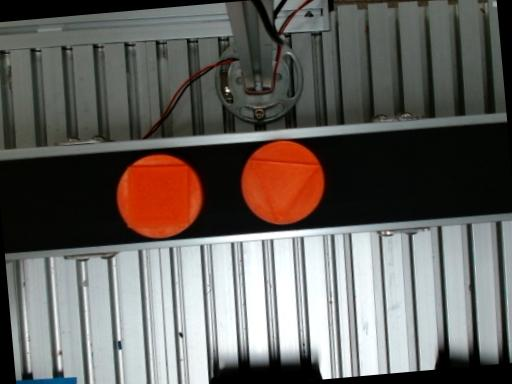Not_Square: (248, 160, 321, 224)
Orange_Waper: (116, 154, 203, 238), (241, 140, 324, 224)
Square: (127, 166, 189, 227)
